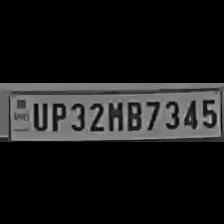2: (86, 98, 104, 132)
3: (162, 96, 180, 130), (67, 98, 85, 130)
4: (180, 96, 198, 128)
5: (198, 95, 218, 127)
7: (142, 96, 160, 130)
B: (124, 97, 142, 130)
M: (105, 98, 123, 132)
P: (48, 98, 66, 132)
U: (28, 98, 48, 130)
